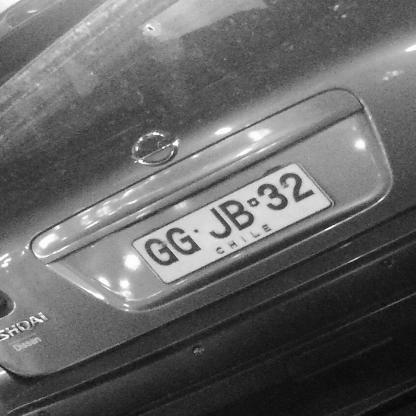Patente: (129, 161, 336, 284)
